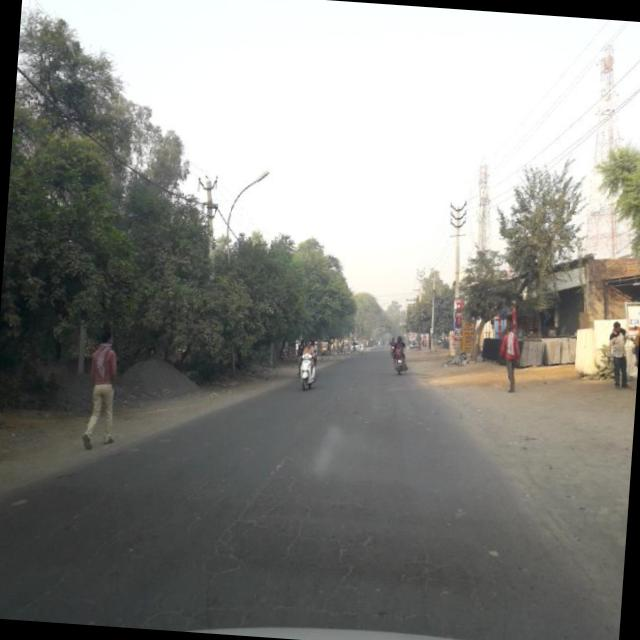crack: (178, 447, 426, 636)
